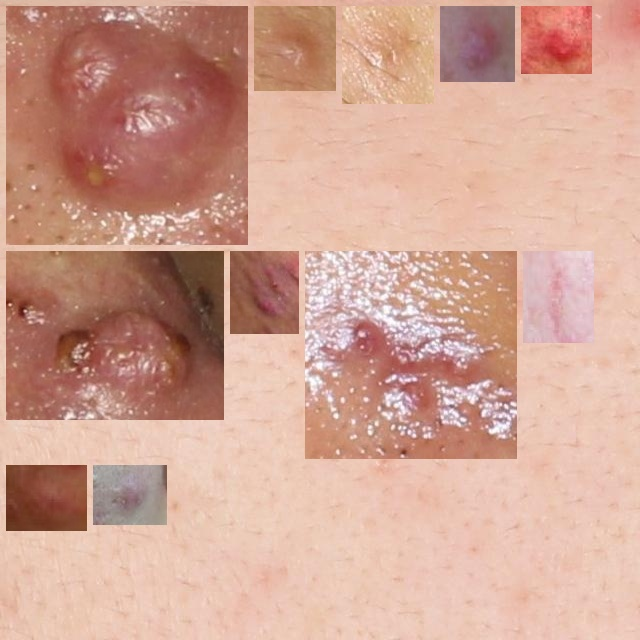nodule: (14, 14, 240, 237), (313, 259, 509, 451), (14, 259, 216, 412), (350, 14, 426, 96), (262, 14, 328, 83), (531, 259, 586, 335), (238, 259, 291, 326), (448, 14, 507, 74), (14, 473, 79, 523), (529, 14, 584, 66), (101, 473, 159, 517)
